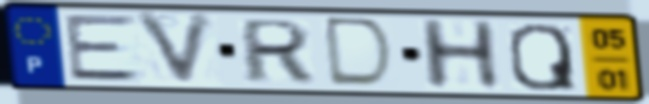D: (324, 15, 399, 91)
E: (61, 13, 146, 83)
H: (415, 17, 505, 92)
Q: (506, 21, 581, 93)
R: (240, 17, 314, 85)
V: (130, 10, 220, 90)
